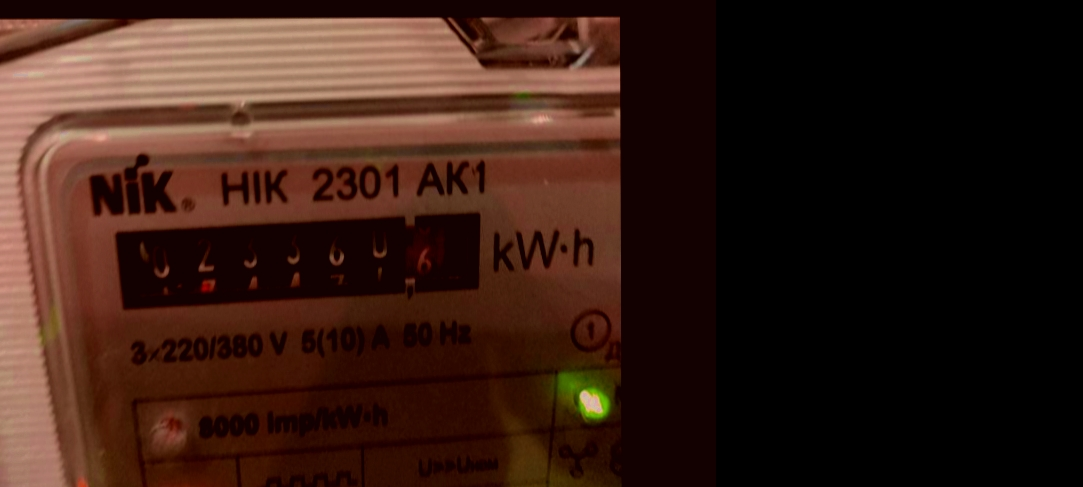0: (146, 240, 171, 282), (366, 224, 389, 261)
2: (190, 233, 216, 274)
3: (237, 231, 258, 271), (279, 229, 301, 267)
6: (321, 229, 347, 270), (413, 243, 434, 279)
screen: (92, 199, 493, 319)
